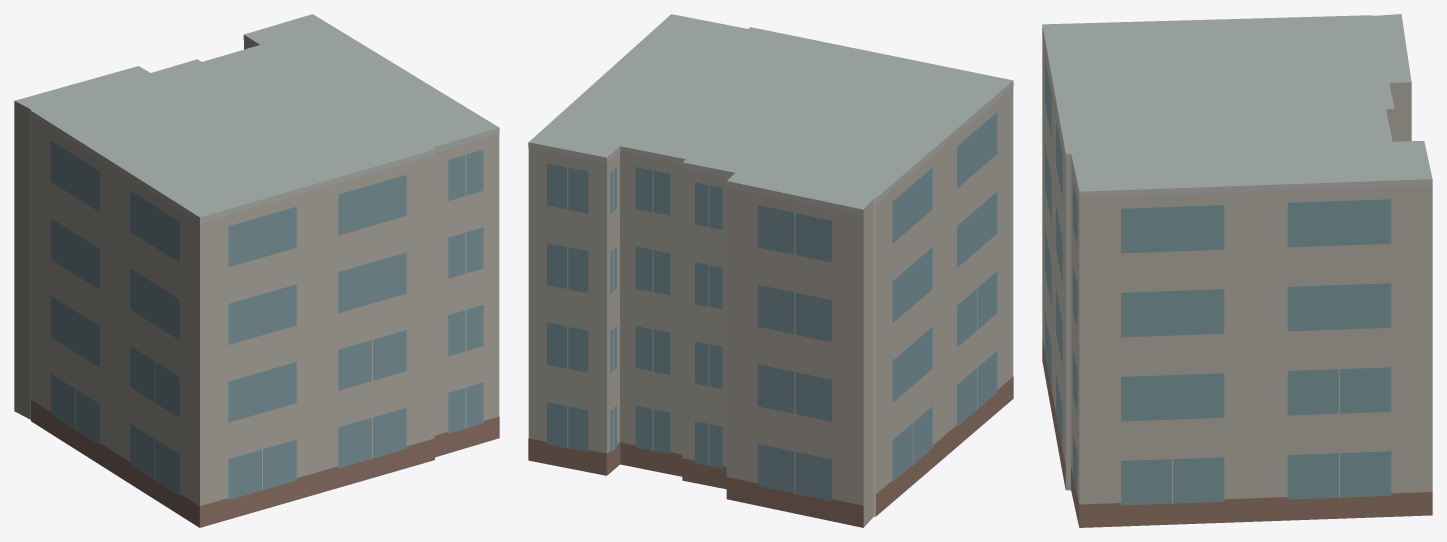
Rendered from survey-upis-32537209.glb.
3 views of the same model, side by side, from view 1: azimuth 30°, elevation 25°; view 2: azimuth 150°, elevation 25°; view 3: azimuth 270°, elevation 25° (orthographic). The views are drawn at different scales.
Parts seen in each view (by area): view 1: survey-upis-32537209.tmp; view 2: survey-upis-32537209.tmp; view 3: survey-upis-32537209.tmp.
Boxes of the visible parts, left/top/right/bottom form: survey-upis-32537209.tmp: left=14, top=14, right=499, bottom=527; survey-upis-32537209.tmp: left=528, top=14, right=1013, bottom=527; survey-upis-32537209.tmp: left=1042, top=14, right=1432, bottom=527.
Bounding box in the file's own units: 15.12 × 13.33 × 14.03.
